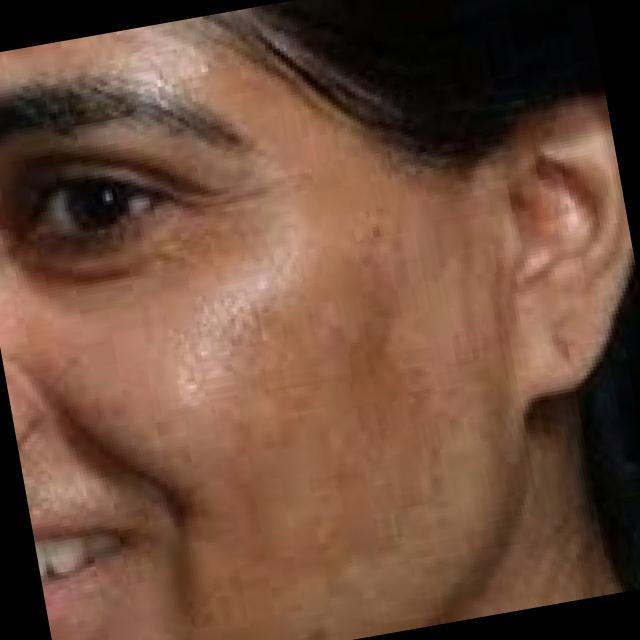pigmentation: (215, 275, 462, 512)
